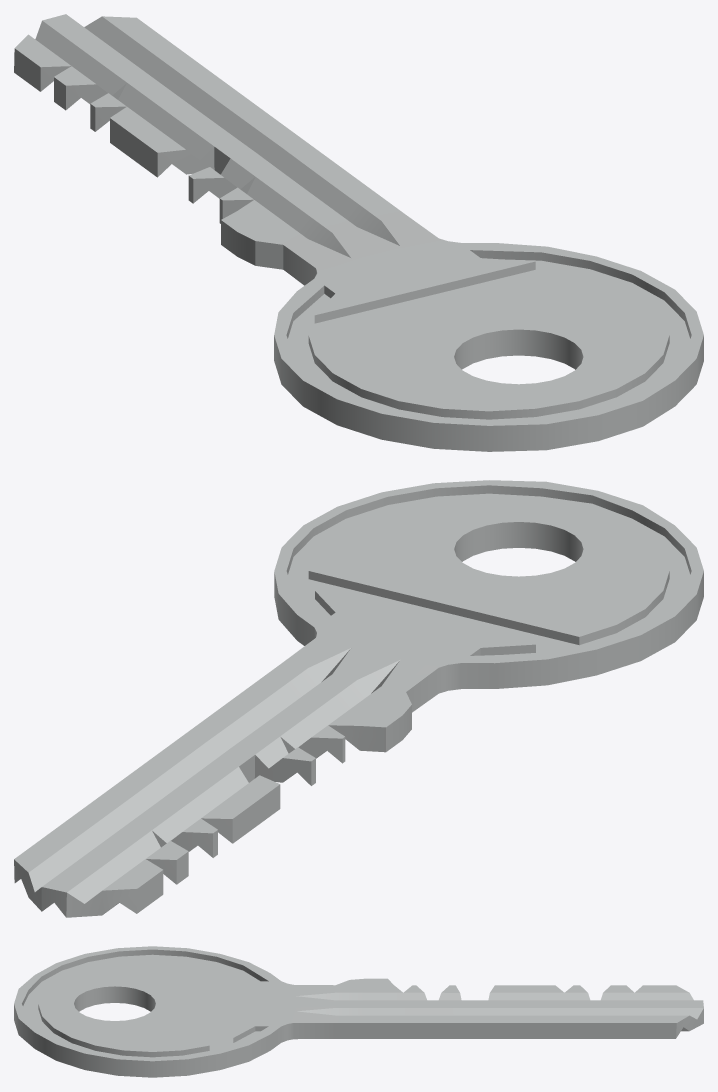
The model's file is Key.fbx.
3 renders of one model, top to bottom at view 1: azimuth 30°, elevation 25°; view 2: azimuth 150°, elevation 25°; view 3: azimuth 270°, elevation 25°, orthographic. The views are drawn at different scales.
Visible parts, largest first — view 1: Key; view 2: Key; view 3: Key.
Boxes of the visible parts, x1,y1,x2,y2 form: Key: [14, 14, 703, 451]; Key: [14, 480, 703, 917]; Key: [14, 946, 703, 1077].
Bounding box in the file's own units: 3 × 0.2 × 7.6.
Materials: 1 (1 with a texture image).
